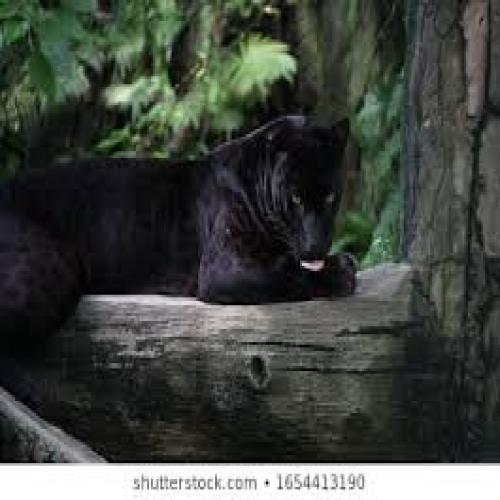panther-endangered: (16, 114, 358, 344)
